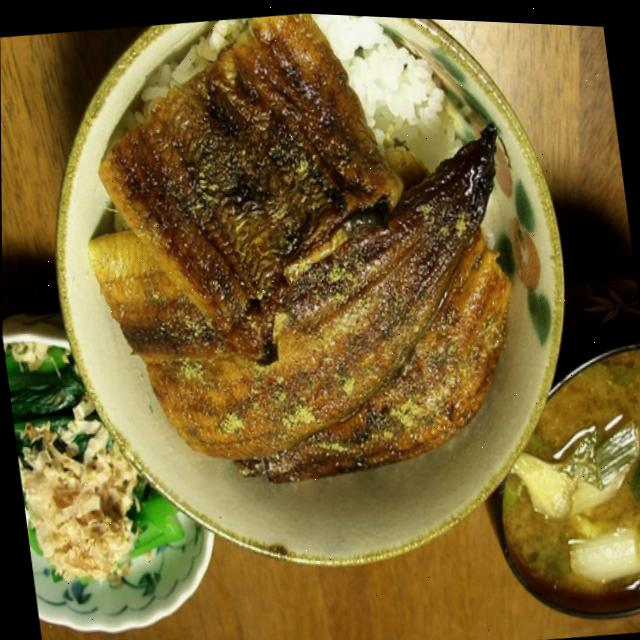熟制海鲜: (37, 1, 588, 586)
